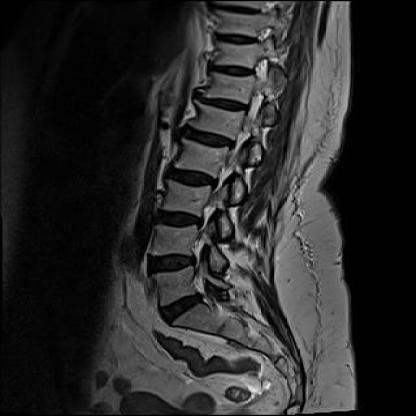Disc Bulgerotation: (154, 292, 216, 320)
Disc Relaxationrotation: (142, 249, 201, 276), (163, 168, 224, 190), (152, 207, 204, 232)
